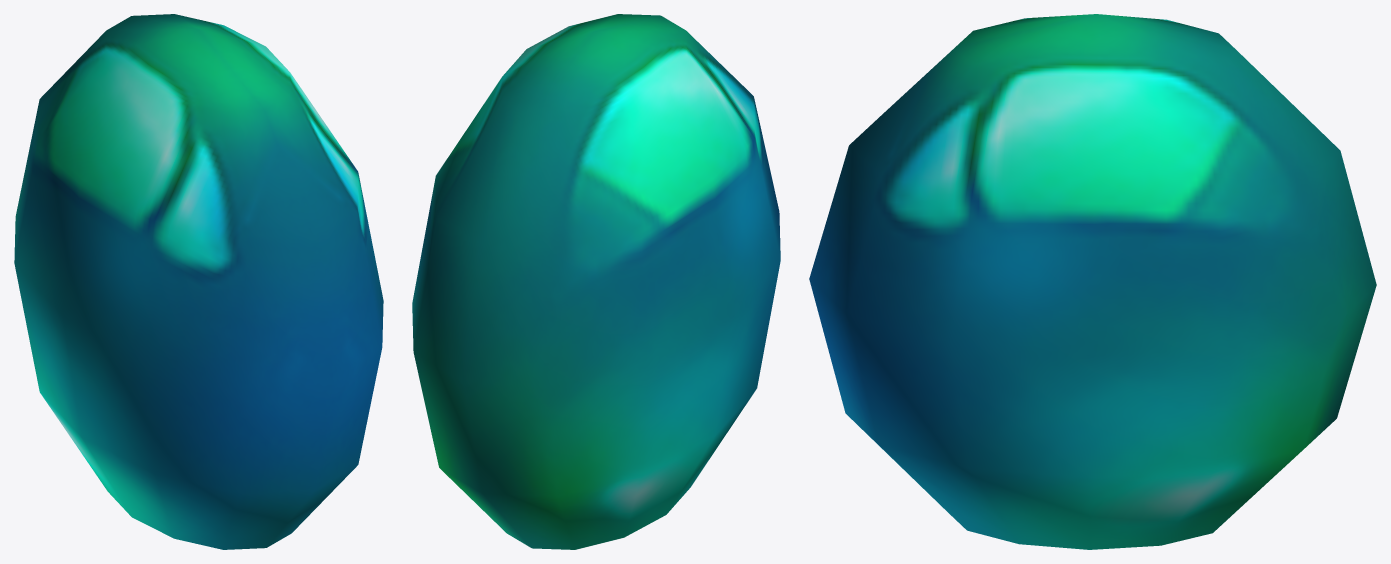
Rendered from scenes_common_jewel01a.FBX.
The picture shows the model from 3 angles, left to right: view 1: azimuth 30°, elevation 25°; view 2: azimuth 150°, elevation 25°; view 3: azimuth 270°, elevation 25°; orthographic projection. The views are drawn at different scales.
Visible parts, largest first — view 1: scenes_common_jewel01a; view 2: scenes_common_jewel01a; view 3: scenes_common_jewel01a.
Boxes of the visible parts, bbox=[...] form: scenes_common_jewel01a: bbox=[14, 14, 383, 549]; scenes_common_jewel01a: bbox=[412, 14, 780, 549]; scenes_common_jewel01a: bbox=[809, 14, 1376, 549].
Bounding box in the file's own units: 14.38 × 25.33 × 24.28.
